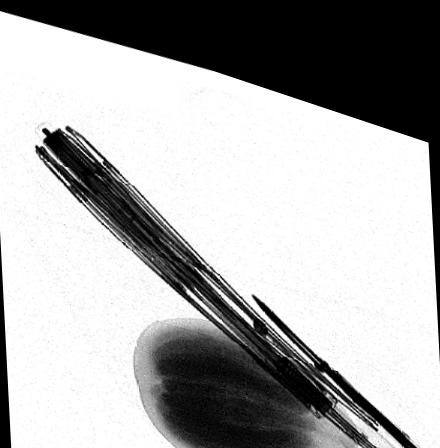Scissors: (247, 271, 438, 446)
